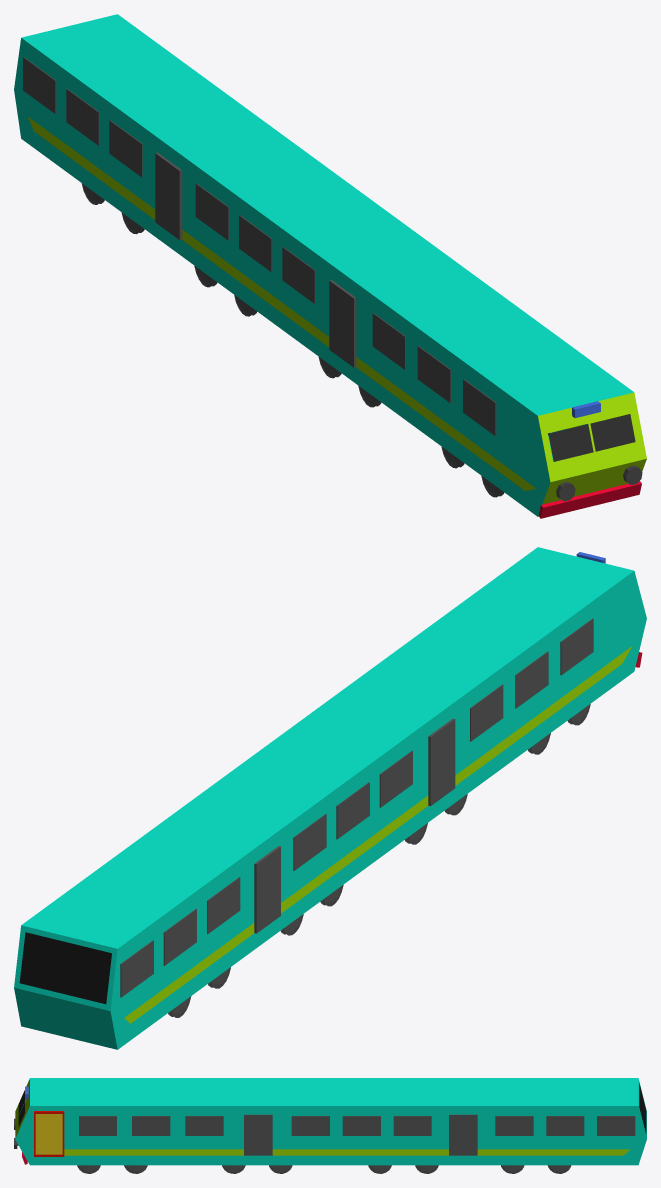
File: train.gltf
3 renders of one model, top to bottom at view 1: azimuth 30°, elevation 25°; view 2: azimuth 150°, elevation 25°; view 3: azimuth 270°, elevation 25°, orthographic. The views are drawn at different scales.
Parts seen in each view (by area): view 1: Cylinder.008; view 2: Cylinder.008; view 3: Cylinder.008.
Part boxes in pixels (bbox=[...]): Cylinder.008: bbox=[14, 14, 646, 518]; Cylinder.008: bbox=[14, 547, 646, 1049]; Cylinder.008: bbox=[14, 1078, 646, 1173].
Size of the model in its own units: 15.58 by 17.51 by 143.
